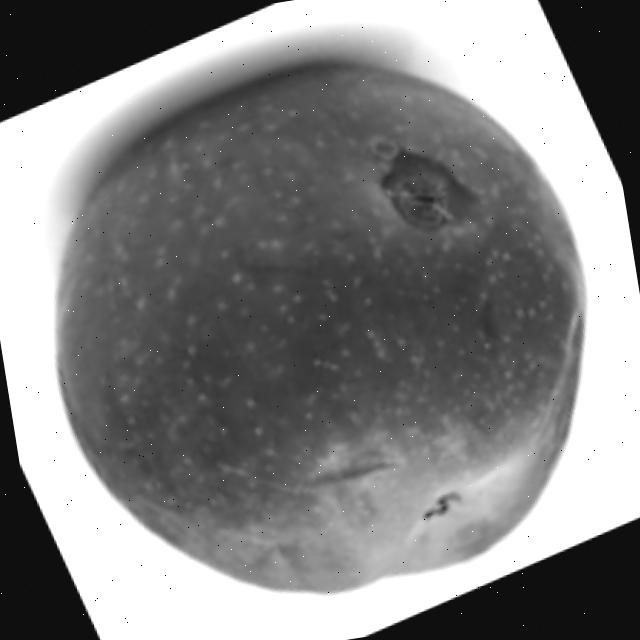Rotten: (13, 17, 636, 640)
